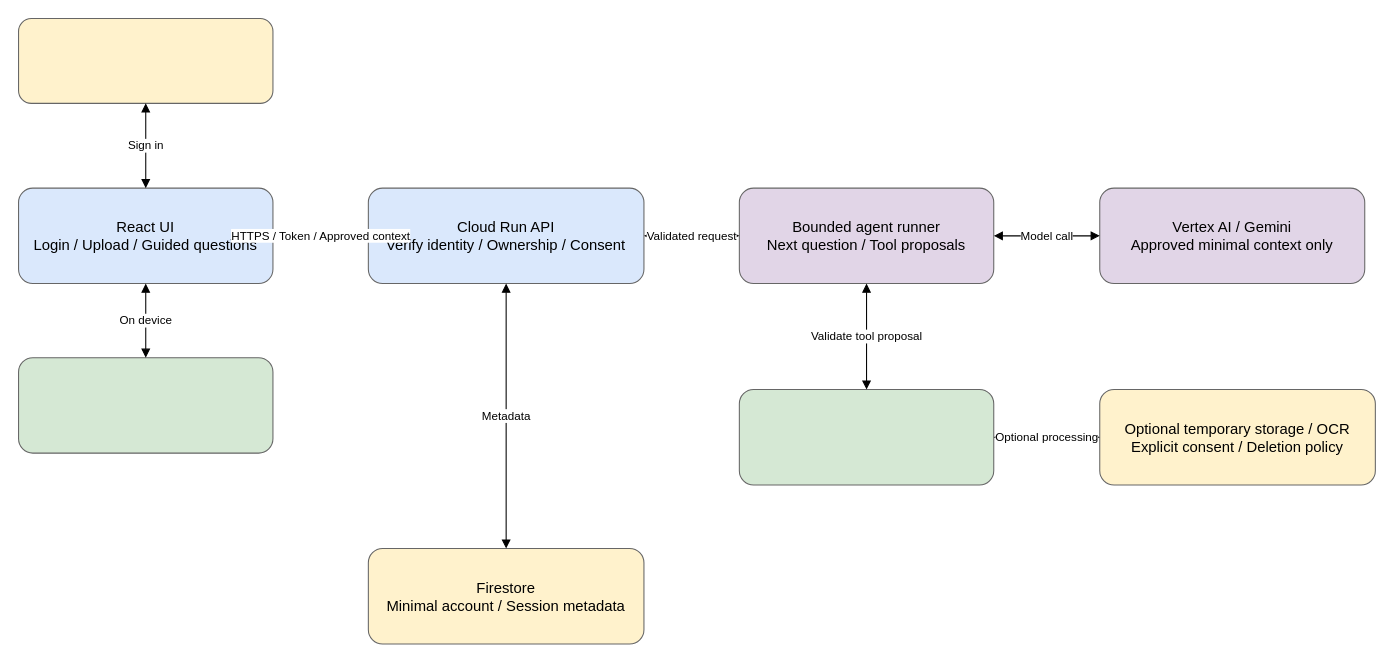
Some shapes in this 1394 by 662 pixel diagram are drawn without their labels. The box of each missing label's shape, as (x1, y1, x2, y2) in pixels:
Deterministic tools Validate / Apply approved actions: (738, 388, 994, 485)
Firebase Authentication Google sign-in: (17, 17, 273, 103)
Local document tools PDF preview / Fields / Answers: (17, 357, 273, 453)
